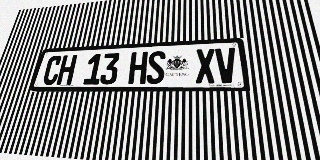1: (83, 54, 104, 85)
3: (99, 53, 120, 85)
C: (41, 55, 63, 85)
H: (128, 51, 148, 84), (56, 55, 77, 85)
S: (146, 51, 166, 84)
V: (215, 47, 238, 83)
X: (195, 48, 216, 84)
